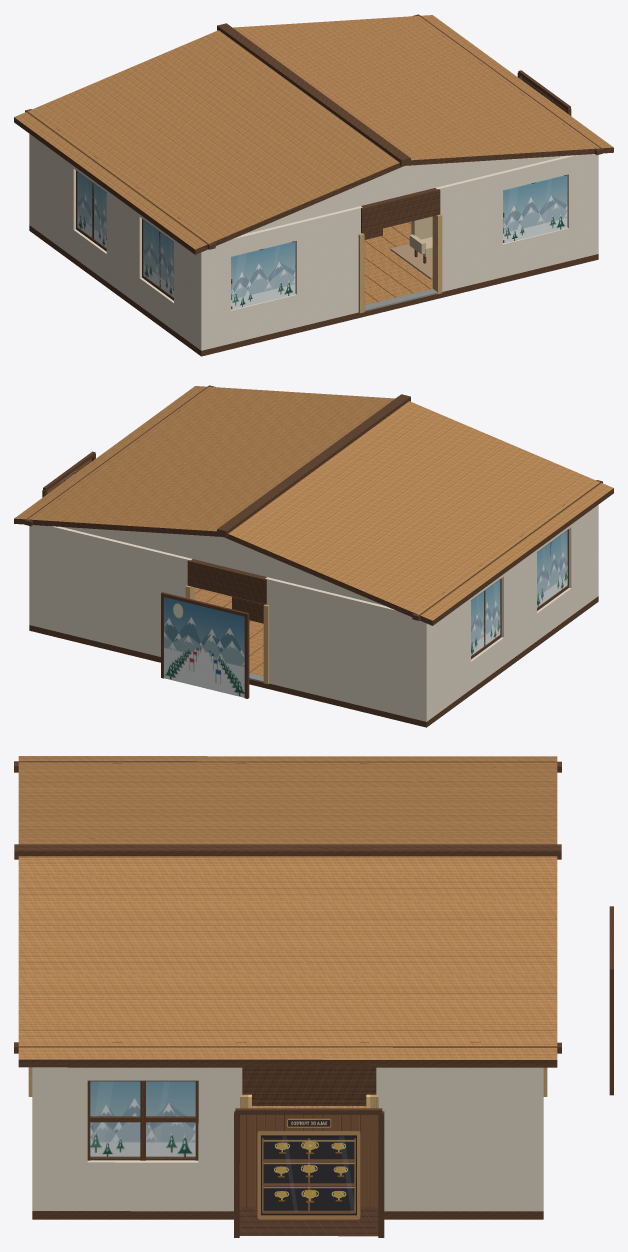
The model's file is Hub_central.obj.
3 views of the same model, one above another, from view 1: azimuth 30°, elevation 25°; view 2: azimuth 150°, elevation 25°; view 3: azimuth 270°, elevation 25° (orthographic). The views are drawn at different scales.
Visible parts, largest first — view 1: 90_Techo_Agua_Izquierda, 90_Techo_Agua_Derecha, 02_Pared_Frontal_Base_-1, 02_Pared_Frontal_Base_1, 02_Timpano_Frontal, 02_Pared_Izquierda_Zocalo, 01_Piso_Estructura, 02_Pared_Frontal_Lateral_-1_1, 01_Piso_Tablones, 04_Ventana_Frontal_1_Imagen_Exterior, 04_Ventana_Frontal_-1_Imagen_Exterior, 02_Pared_Frontal_Lateral_1_0 (+16 smaller); view 2: 90_Techo_Agua_Izquierda, 90_Techo_Agua_Derecha, 02_Pared_Trasera_-1, 02_Pared_Trasera_1, 95_VISTA_PISTA_Plano_UV, 02_Timpano_Trasera, 02_Pared_Izquierda_Zocalo, 01_Piso_Estructura, 02_Pared_Izquierda_Tramo_2, 90_Techo_Cumbrera, 05_Arquitectura_Pista_Dintel, 02_Pared_Izquierda_Tramo_1 (+8 smaller); view 3: 90_Techo_Agua_Derecha, 90_Techo_Agua_Izquierda, 02_Pared_Derecha_Trasera, 96_VISTA_TROFEOS_Plano_UV, 02_Pared_Derecha_Base, 04_Ventana_Derecha_Imagen, 90_Techo_Cumbrera, 02_Pared_Derecha_Costado_0, 05_Arquitectura_Trofeos_Dintel, 01_Piso_Estructura, 02_Pared_Derecha_Costado_1, 02_Pared_Derecha_Alta (+9 smaller).
Boxes of the visible parts, x1,y1,x2,y2 form: 90_Techo_Agua_Izquierda: (14, 30, 404, 254); 90_Techo_Agua_Derecha: (233, 15, 613, 165); 02_Pared_Frontal_Base_-1: (198, 280, 358, 350); 02_Pared_Frontal_Base_1: (442, 221, 598, 291); 02_Timpano_Frontal: (243, 155, 566, 234); 02_Pared_Izquierda_Zocalo: (32, 199, 198, 348); 01_Piso_Estructura: (29, 225, 598, 356); 02_Pared_Frontal_Lateral_-1_1: (295, 225, 361, 294); 01_Piso_Tablones: (364, 221, 432, 304); 04_Ventana_Frontal_1_Imagen_Exterior: (504, 175, 567, 243); 04_Ventana_Frontal_-1_Imagen_Exterior: (232, 242, 295, 309); 02_Pared_Frontal_Lateral_1_0: (440, 190, 502, 259); 90_Techo_Agua_Izquierda: (223, 401, 613, 625); 90_Techo_Agua_Derecha: (14, 386, 395, 536); 02_Pared_Trasera_-1: (265, 577, 429, 721); 02_Pared_Trasera_1: (29, 525, 192, 656); 95_VISTA_PISTA_Plano_UV: (164, 597, 244, 697); 02_Timpano_Trasera: (62, 527, 384, 605); 02_Pared_Izquierda_Zocalo: (429, 570, 595, 719); 01_Piso_Estructura: (29, 596, 598, 727); 02_Pared_Izquierda_Tramo_2: (429, 600, 470, 691); 90_Techo_Cumbrera: (217, 394, 410, 536); 05_Arquitectura_Pista_Dintel: (187, 559, 266, 604); 02_Pared_Izquierda_Tramo_1: (501, 551, 536, 637); 90_Techo_Agua_Derecha: (18, 856, 557, 1067); 90_Techo_Agua_Izquierda: (18, 756, 557, 844); 02_Pared_Derecha_Trasera: (373, 1067, 535, 1211); 96_VISTA_TROFEOS_Plano_UV: (239, 1115, 378, 1236); 02_Pared_Derecha_Base: (40, 1160, 233, 1211); 04_Ventana_Derecha_Imagen: (90, 1081, 195, 1156); 90_Techo_Cumbrera: (14, 844, 561, 859); 02_Pared_Derecha_Costado_0: (40, 1080, 87, 1162); 05_Arquitectura_Trofeos_Dintel: (242, 1067, 376, 1094); 01_Piso_Estructura: (32, 1211, 543, 1219); 02_Pared_Derecha_Costado_1: (198, 1080, 244, 1162); 02_Pared_Derecha_Alta: (41, 1067, 242, 1080).
Size of the model in its own units: 53.78 by 17.58 by 41.93.
Materials: 37 (37 with a texture image).
